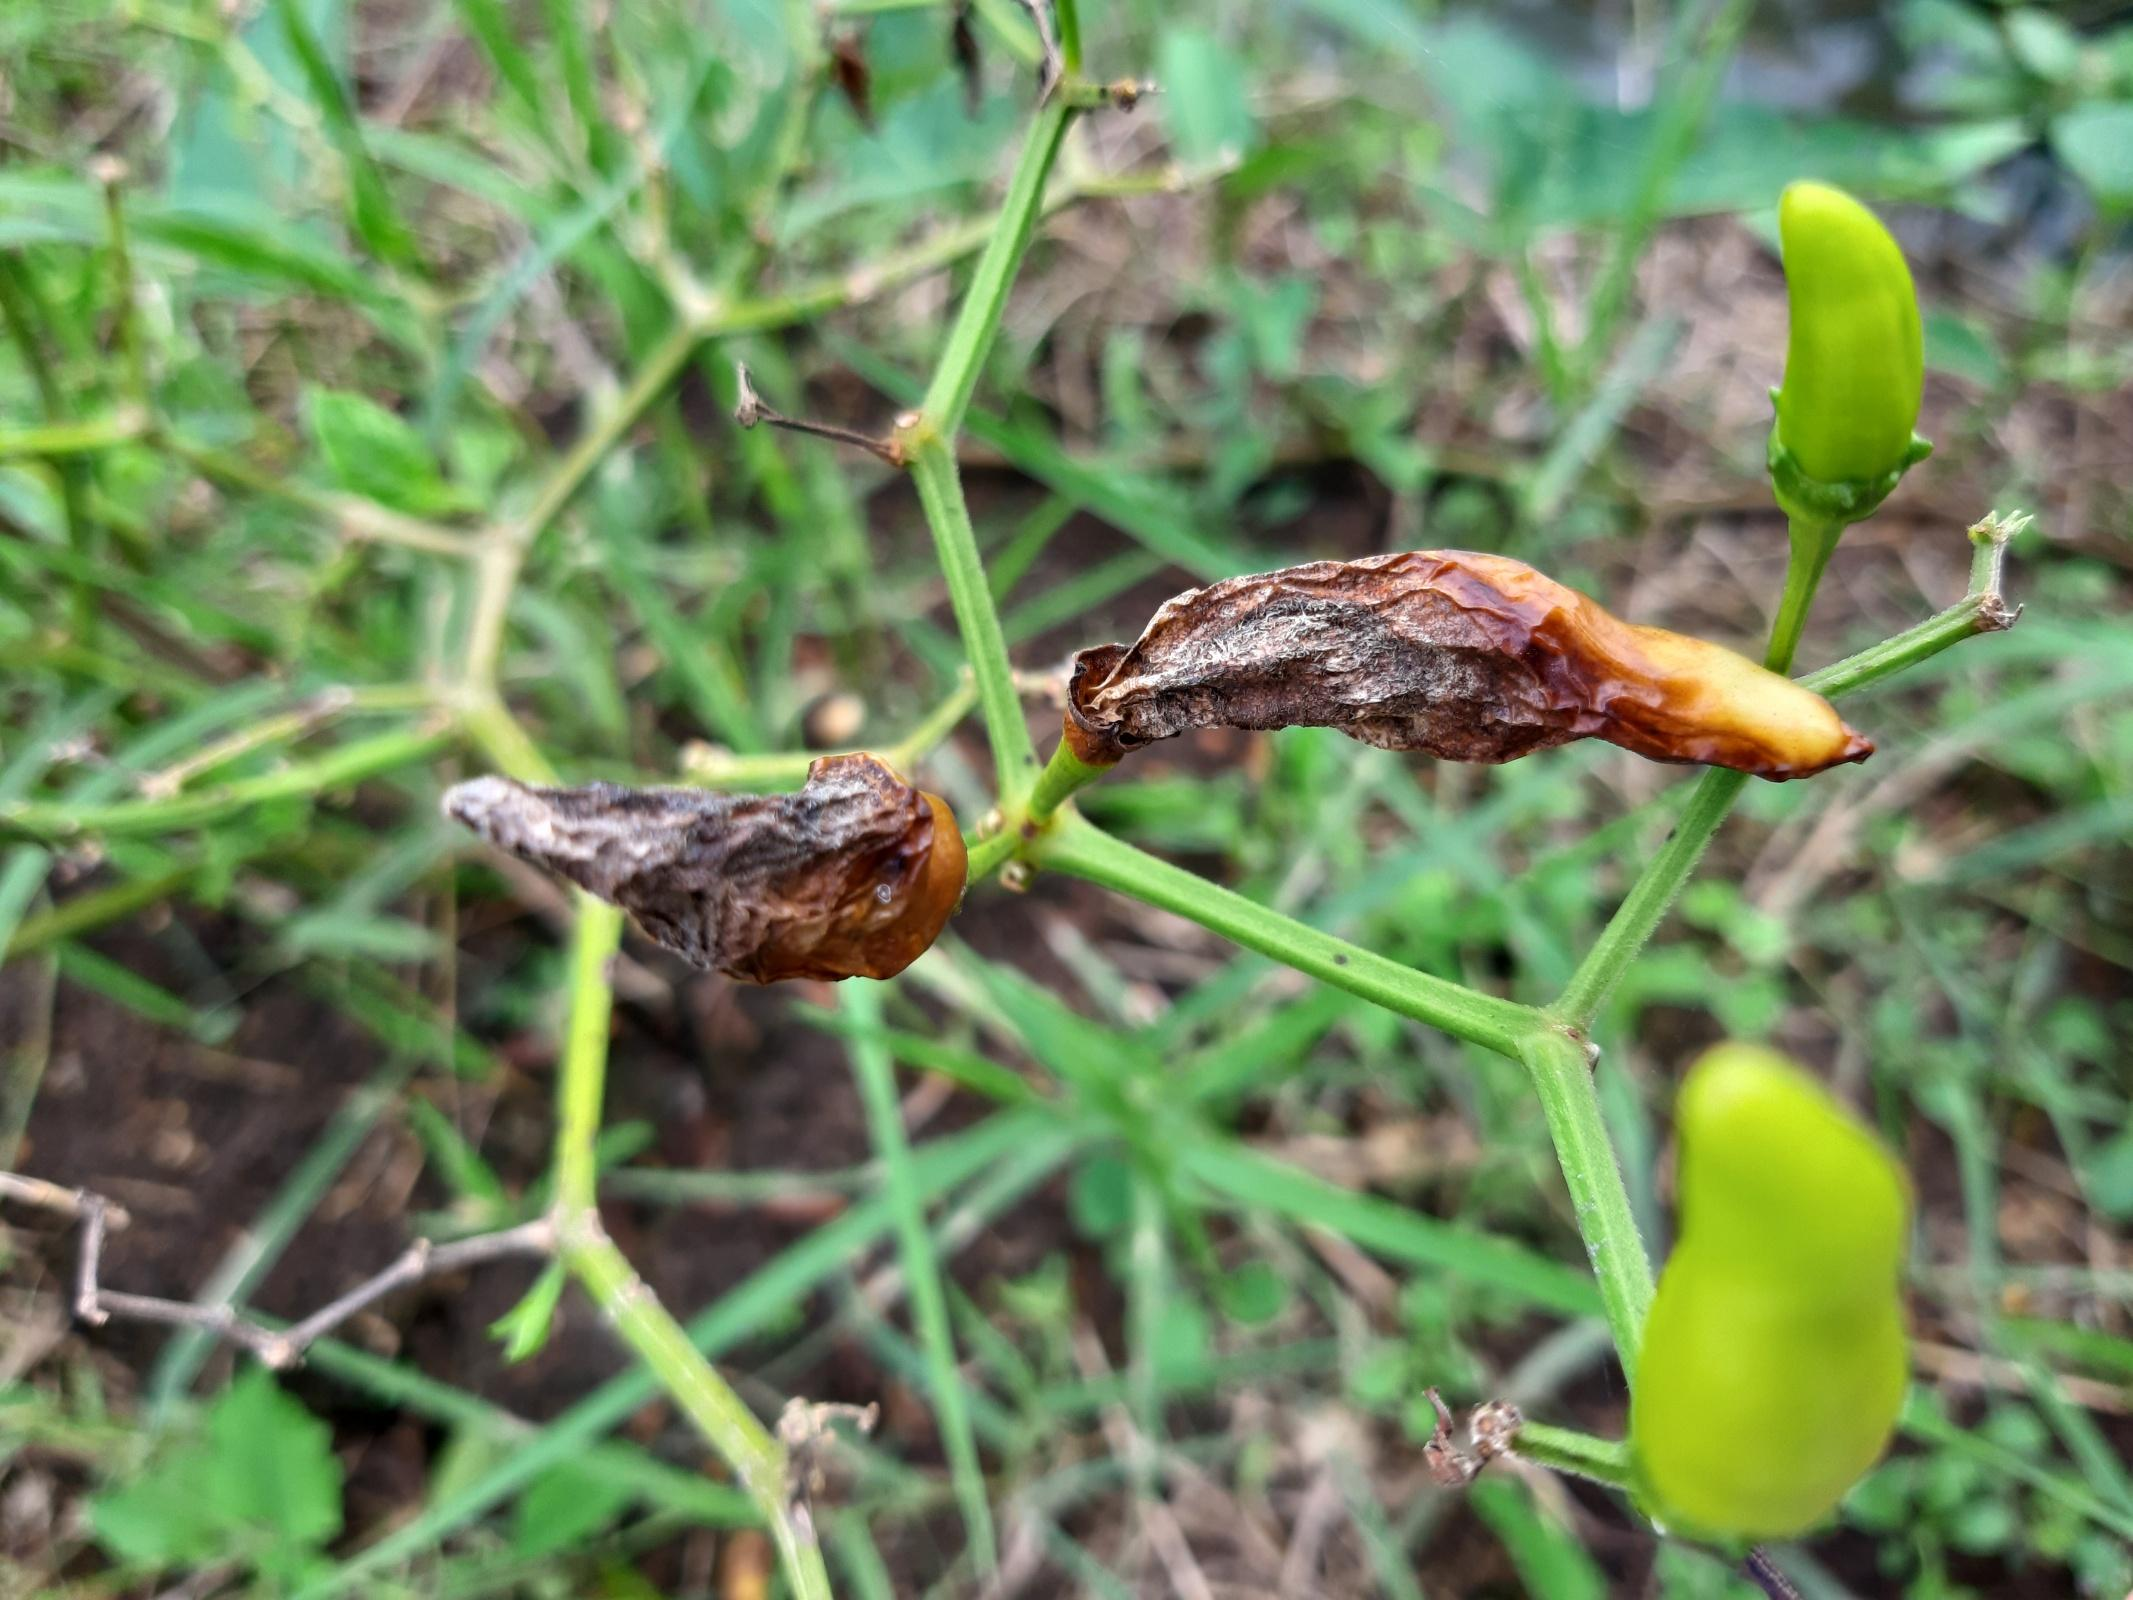antraknosa: (1071, 543, 1879, 807), (439, 750, 968, 993)
cabai_normal: (1627, 1040, 1923, 1551), (1751, 183, 1926, 492)
